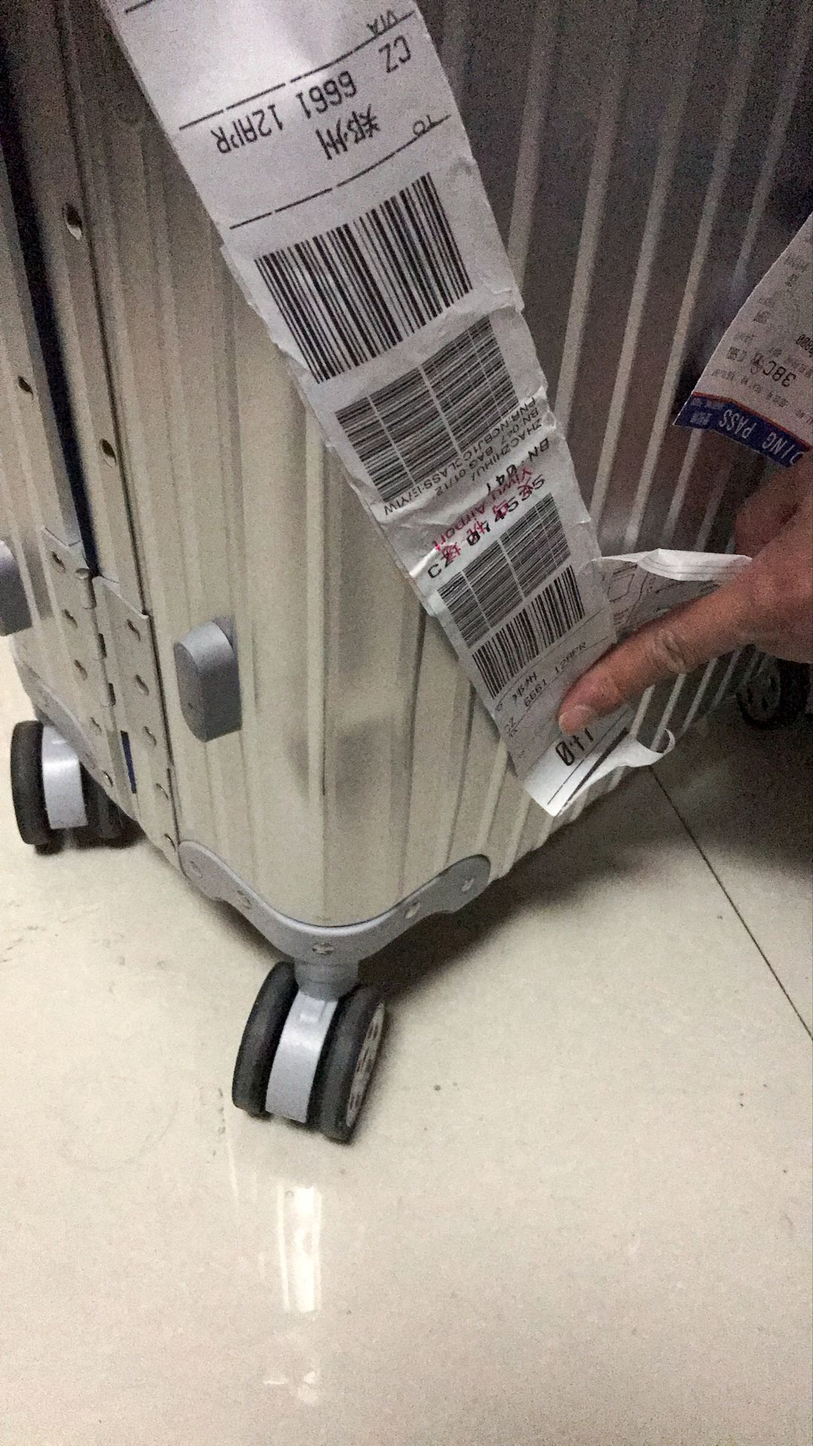rupture: (282, 679, 404, 822)
